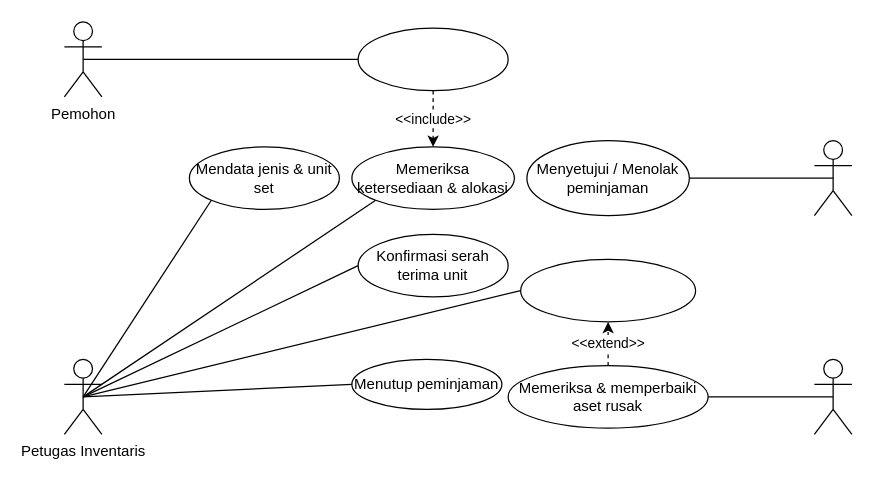
Image size: 894x483. Some labels were removed from this diagram. Each missing label, with the centre of its shape:
Kepala Unit: the point at 832,177
Memproses pengembalian parsial: the point at 607,290
Mengajukan peminjaman alat: the point at 432,59
Teknisi: the point at 832,396
